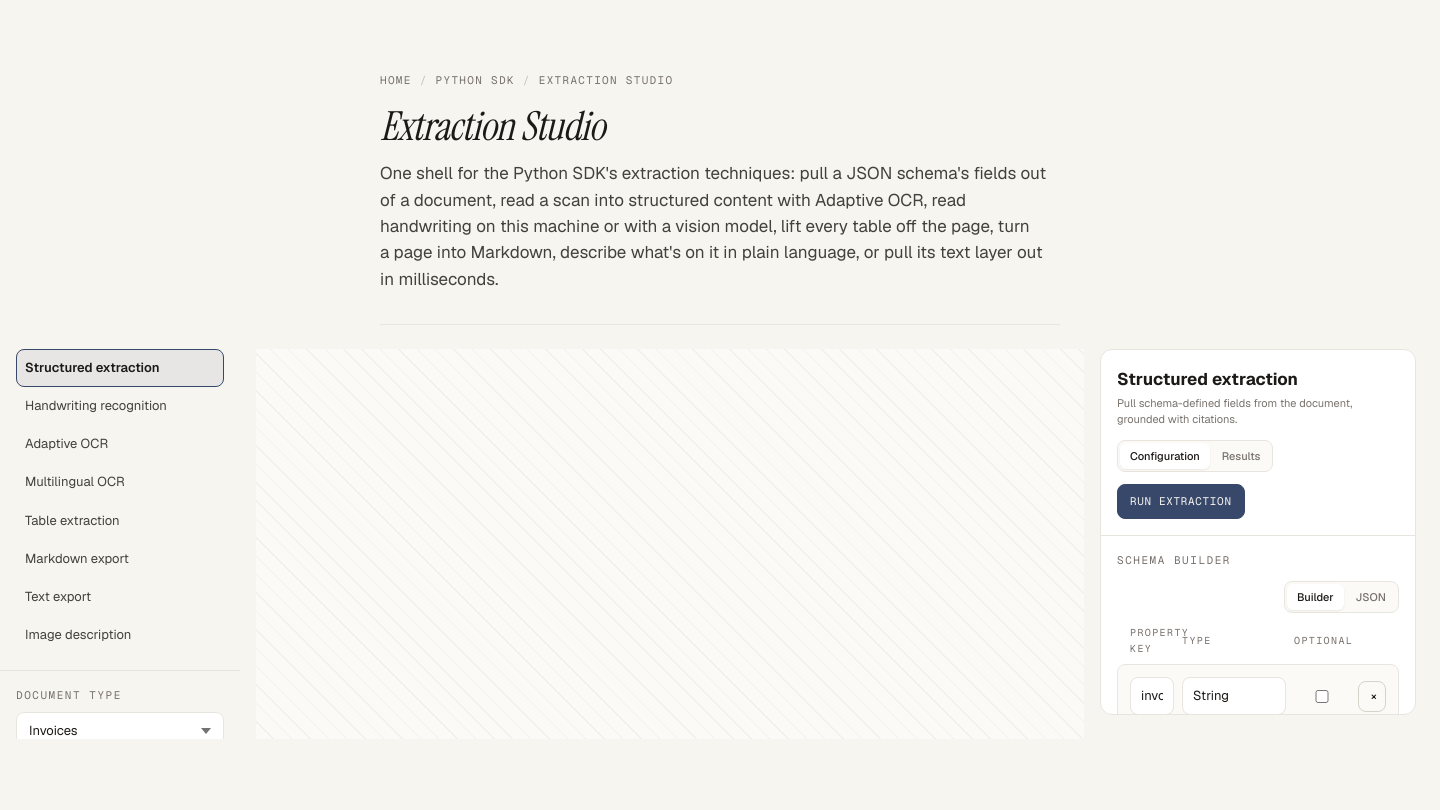
Test: mounts the markdown panel when the feature is selected
Click the button "Markdown export": (120, 559) top-left (16, 540), bottom-right (224, 578)
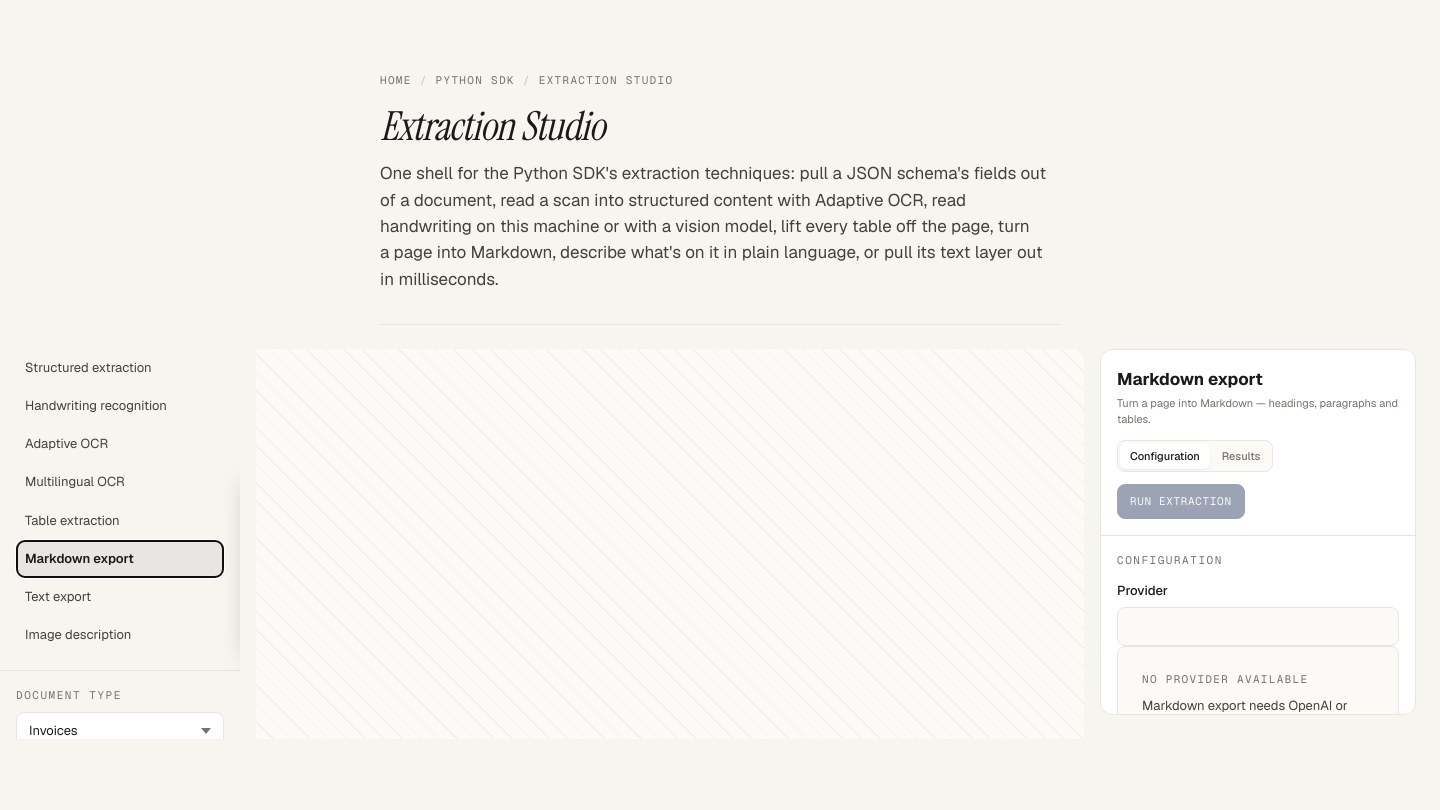
Expected: the dropdown with id "markdown-provider" is shown, top-left (1117, 607), bottom-right (1399, 646)
